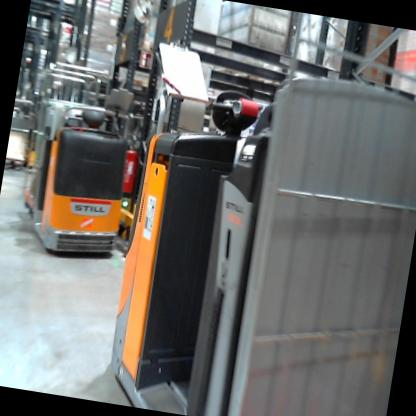pallet_truck: (103, 12, 416, 416), (5, 86, 139, 276)
